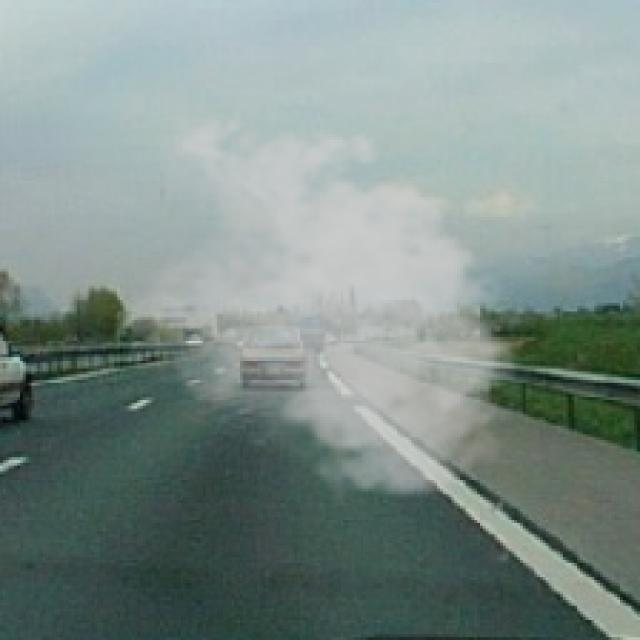smoke: (126, 103, 531, 506)
